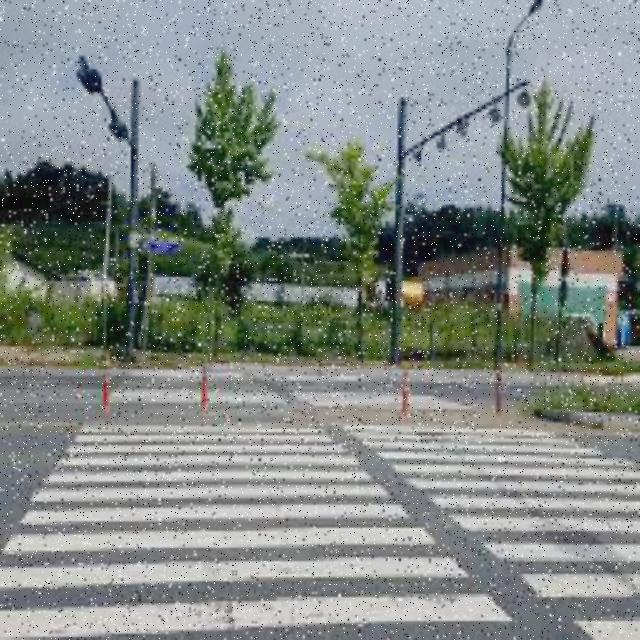crosswalk: (0, 366, 638, 638)
